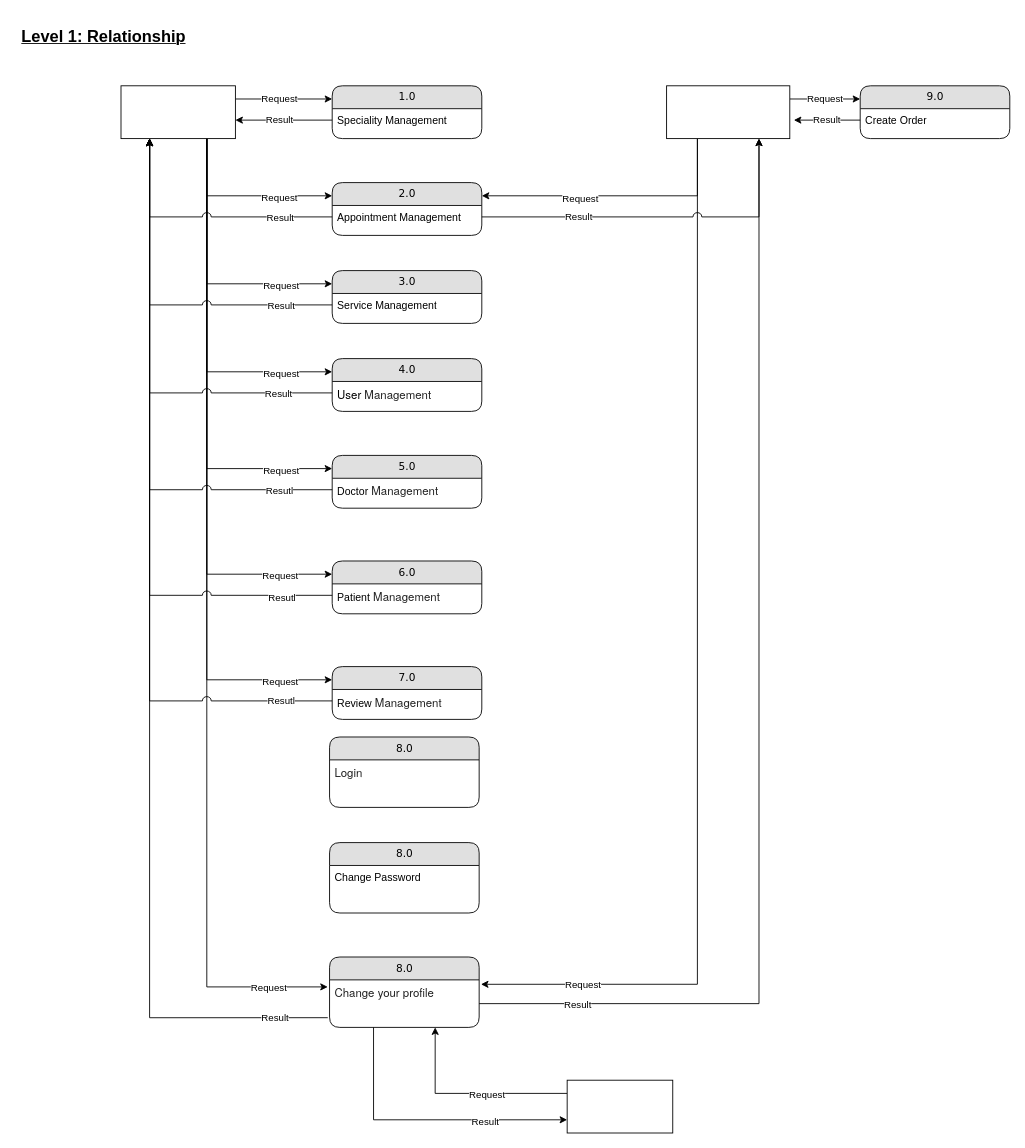
Image size: 1025x1148. Some labels were removed from this diagram. Each missing label, with the box of its shape:
Administrator: (120, 85, 235, 139)
Doctor: (566, 1079, 673, 1133)
Patient: (666, 85, 790, 139)
